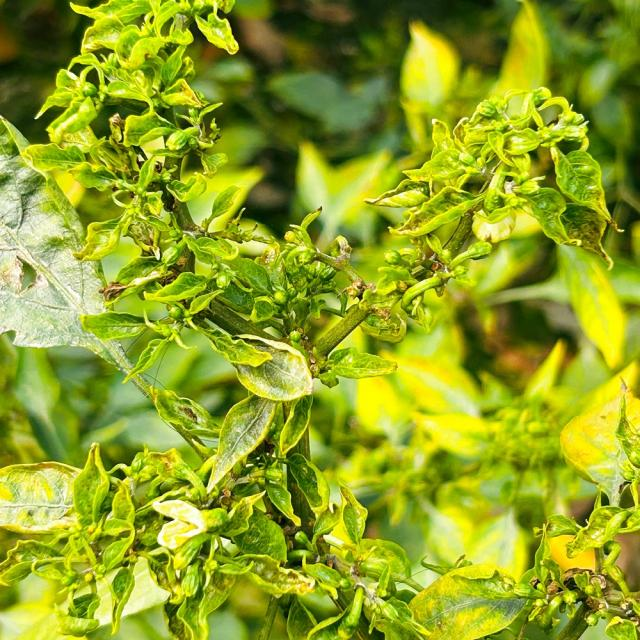Chilli_Leaf_Curl: (1, 0, 638, 638), (362, 84, 624, 331), (1, 117, 142, 376), (230, 333, 314, 402)
